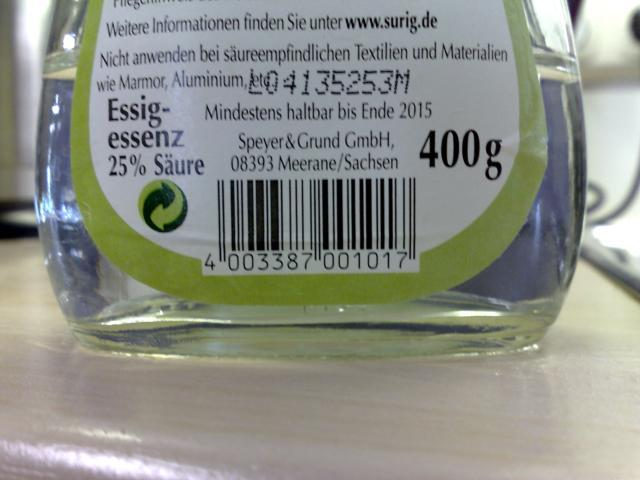Barkod: (216, 176, 416, 251)
